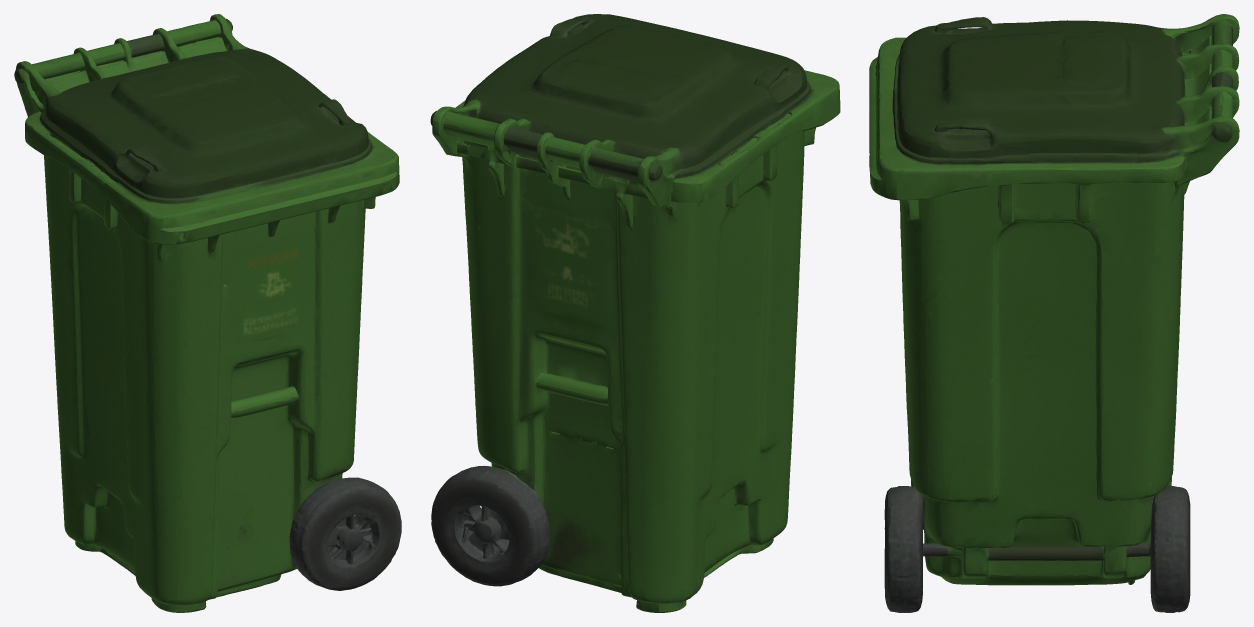
Rendered from wheelie-bin.glb.
3 views of the same model, side by side, from view 1: azimuth 30°, elevation 25°; view 2: azimuth 150°, elevation 25°; view 3: azimuth 270°, elevation 25° (orthographic). The views are drawn at different scales.
Visible parts, largest first — view 1: world; view 2: world; view 3: world.
Boxes of the visible parts, x1,y1,x2,y2 form: world: (14, 14, 401, 612); world: (430, 14, 840, 612); world: (869, 14, 1239, 612).
Bounding box in the file's own units: 0.6125 × 1.07 × 0.7084.
Materials: 1 (1 with a texture image).
